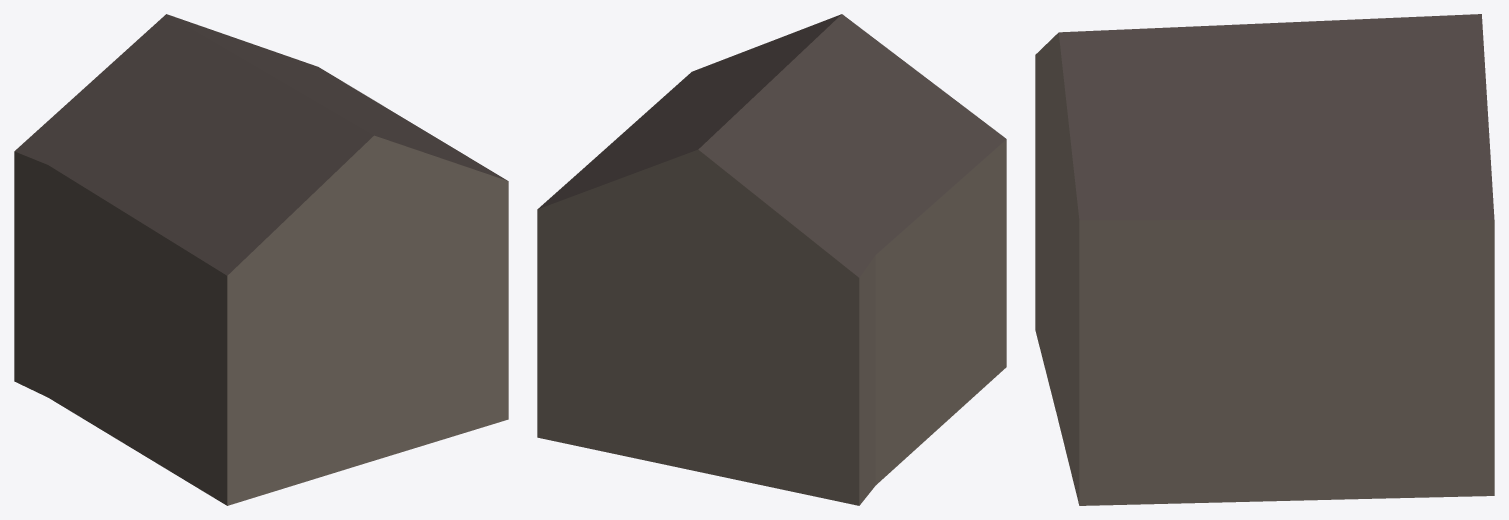
The picture shows the model from 3 angles, left to right: view 1: azimuth 30°, elevation 25°; view 2: azimuth 150°, elevation 25°; view 3: azimuth 270°, elevation 25°; orthographic projection. The views are drawn at different scales.
Visible parts, largest first — view 1: HP-w1512965851; view 2: HP-w1512965851; view 3: HP-w1512965851.
Boxes of the visible parts, box(x1,y1,x2,y2) form: HP-w1512965851: box(14, 14, 508, 505); HP-w1512965851: box(537, 14, 1006, 505); HP-w1512965851: box(1035, 14, 1494, 505).
Bounding box in the file's own units: 9.05 × 8.48 × 9.05.
